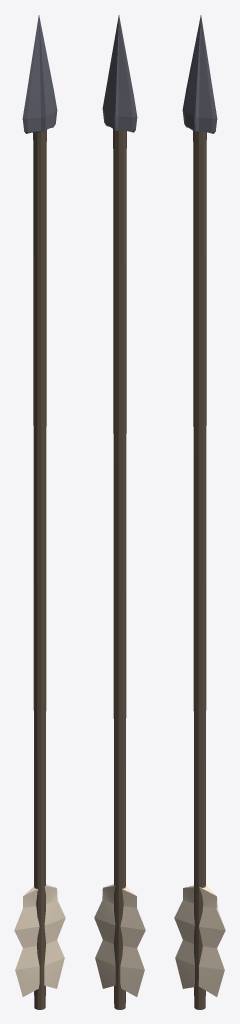
The model's file is ARROW_BOW.fbx.
3 renders of one model, left to right at view 1: azimuth 30°, elevation 25°; view 2: azimuth 150°, elevation 25°; view 3: azimuth 330°, elevation 25°, orthographic.
Parts seen in each view (by area): view 1: arrow; view 2: arrow; view 3: arrow.
Boxes of the visible parts, x1=… form: arrow: x1=14, y1=15, x2=65, y2=1009; arrow: x1=94, y1=15, x2=145, y2=1009; arrow: x1=174, y1=15, x2=225, y2=1009.
Bounding box in the file's own units: 4.6 × 84.71 × 1.62.
